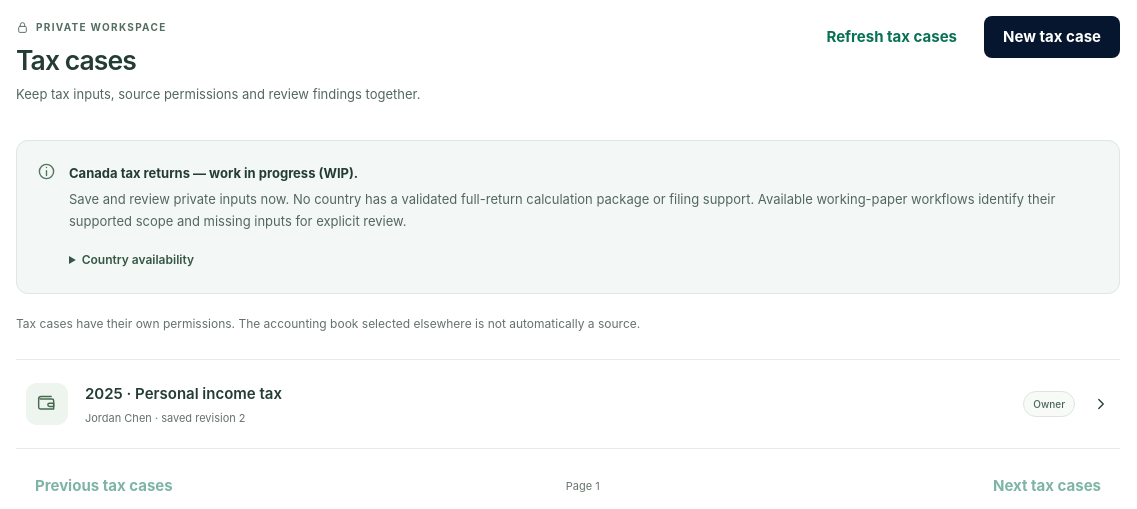
Test: existing corporate case entity attachment › clears the view when the entity catalog denies access without a reload loop
What coordinates should you click on to do the following:
click the button with aria-label "Open tax case 2025 · Personal income tax"
I would click on:
 (47, 404)
Its box is [16,360,1120,448].
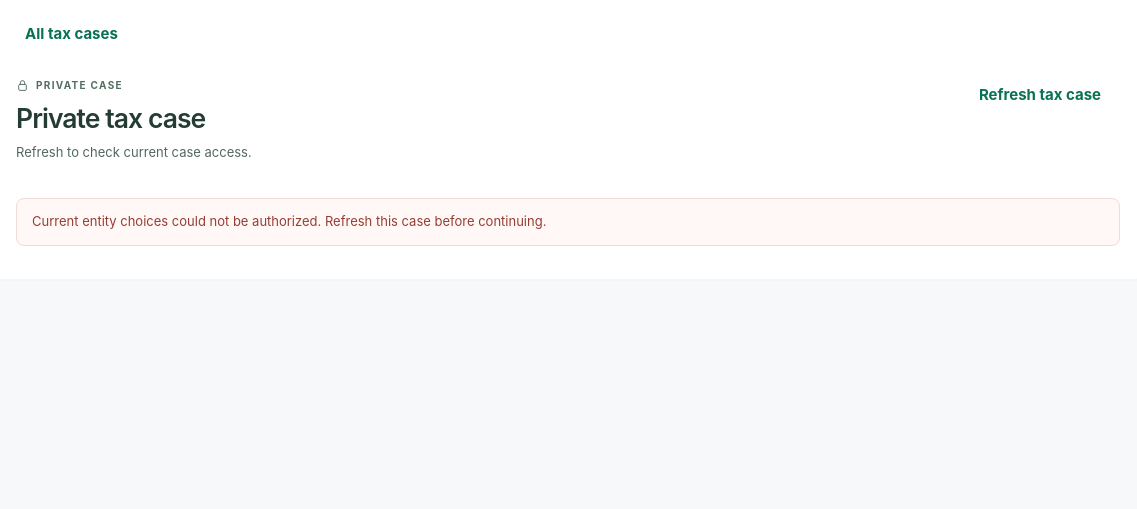
Expected: the text "Current entity choices could not be authorized. Refresh this case before continuing." is shown, [32,213,546,229]
